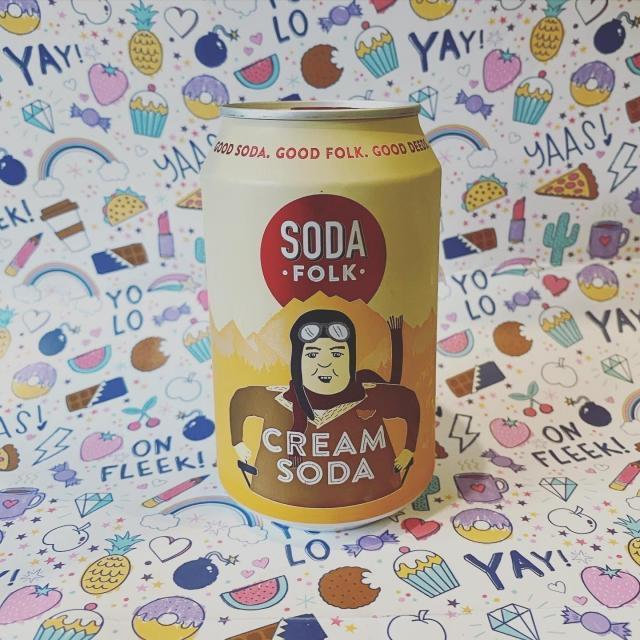tin can: (189, 90, 461, 534)
